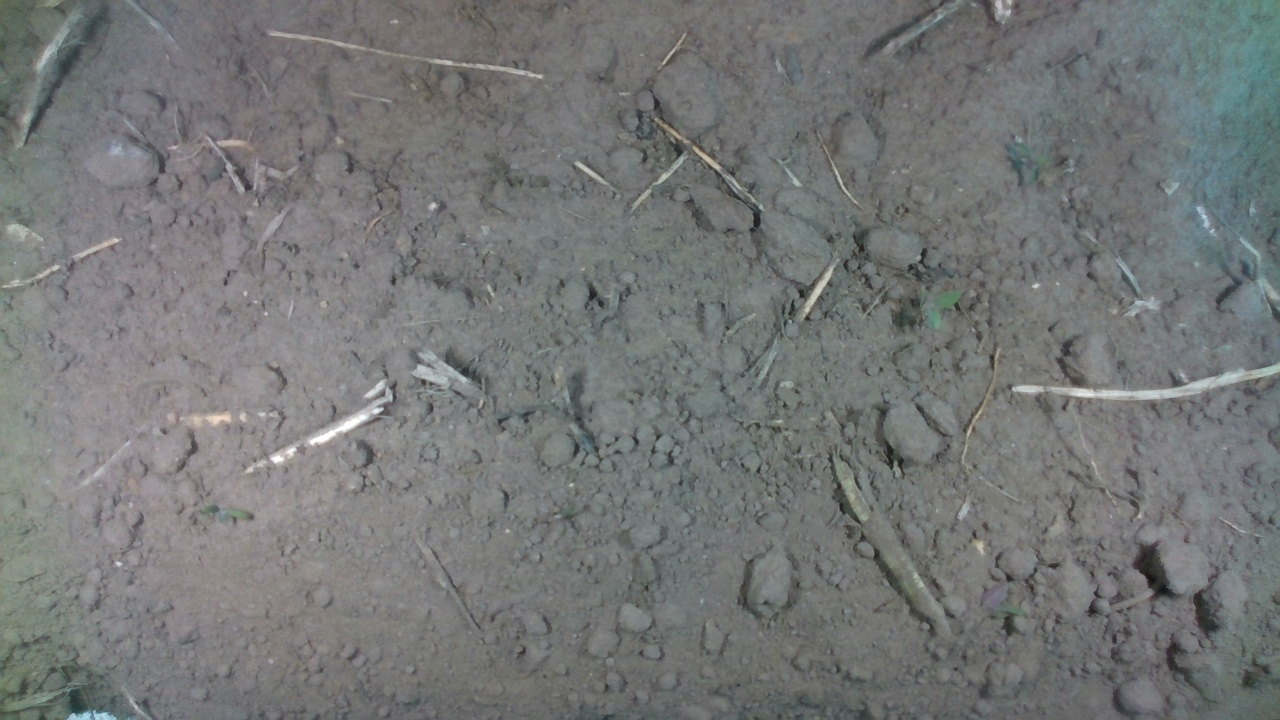weed: (200, 502, 254, 522)
